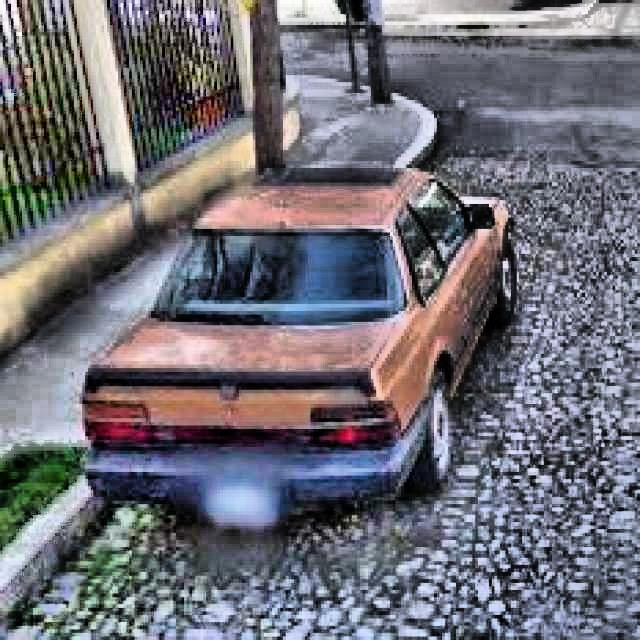carro: (85, 178, 517, 520)
